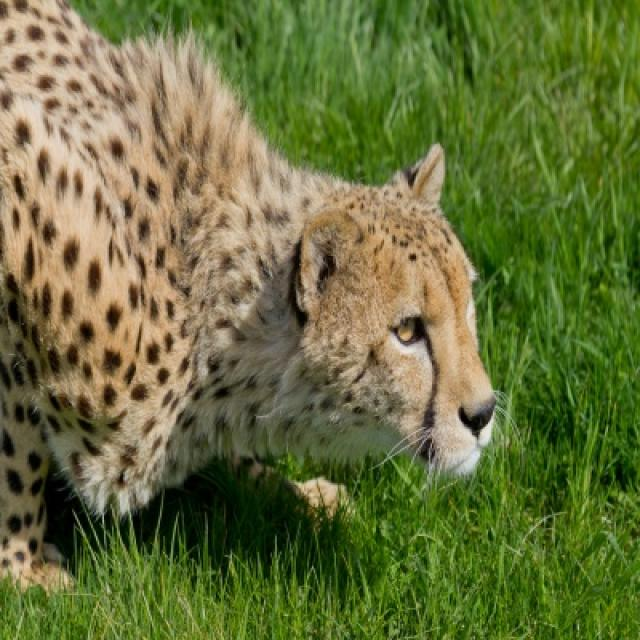Cheetah: (0, 0, 498, 597)
